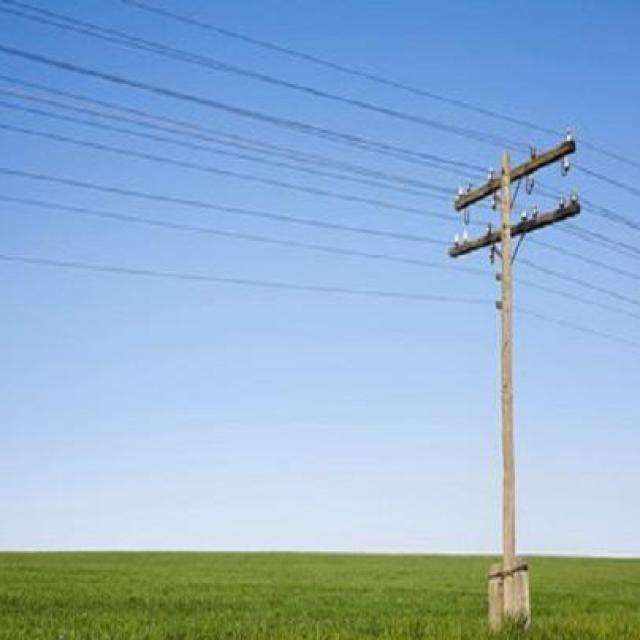non-critical vegetation: (444, 133, 590, 618)
